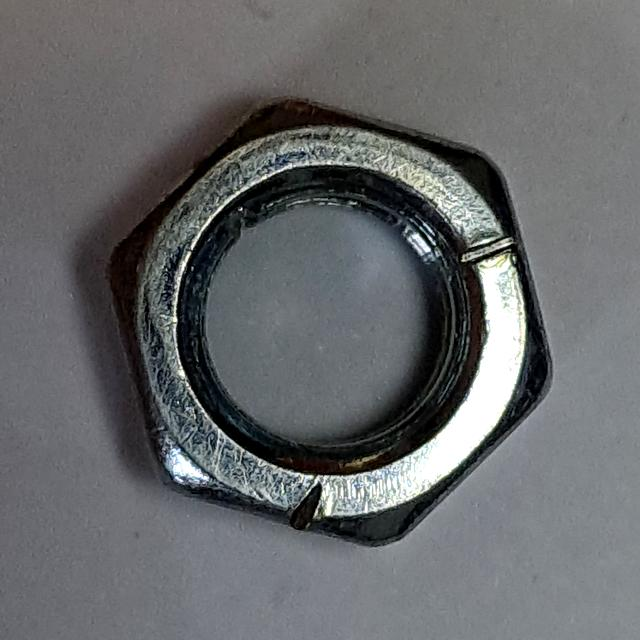Scratches: (98, 89, 573, 559)
